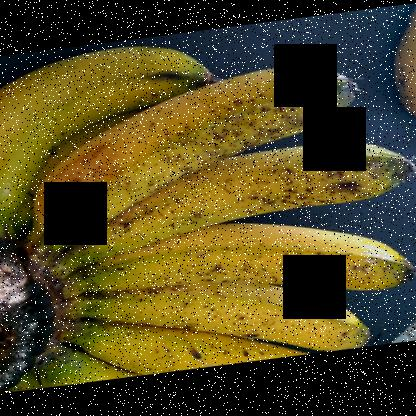ripe: (36, 46, 374, 240), (78, 142, 410, 262), (56, 228, 416, 307), (63, 294, 384, 352)
